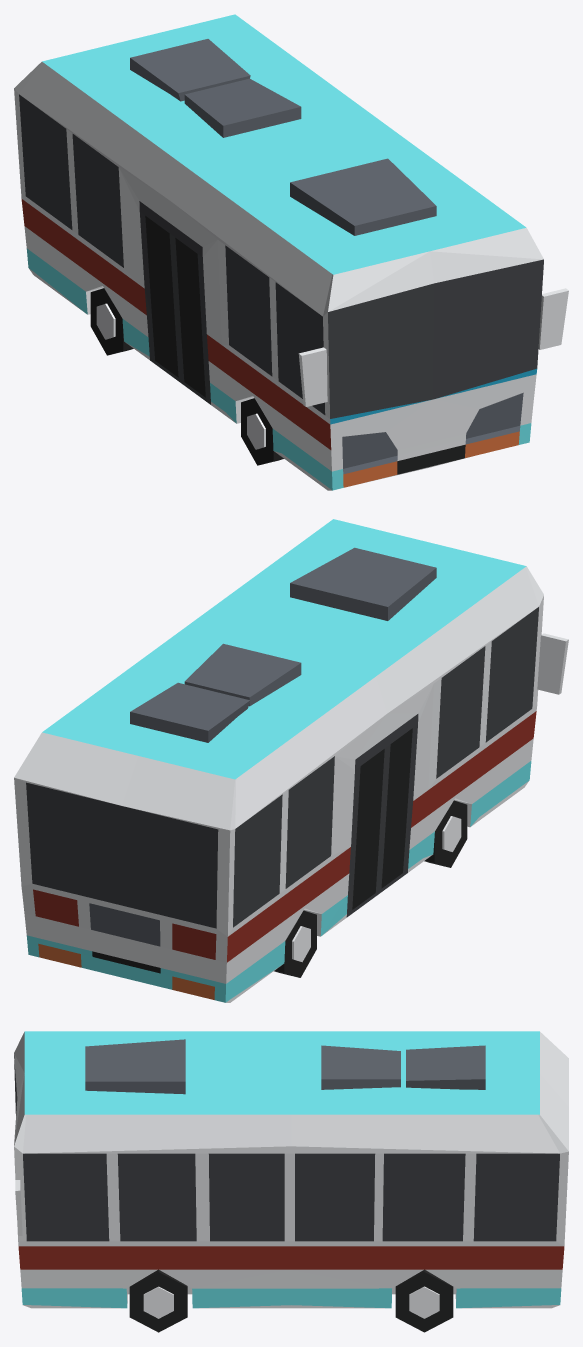
Rendered from Vehicles_City_Bus.fbx.
The picture shows the model from 3 angles, top to bottom: view 1: azimuth 30°, elevation 25°; view 2: azimuth 150°, elevation 25°; view 3: azimuth 270°, elevation 25°; orthographic projection. The views are drawn at different scales.
Parts seen in each view (by area): view 1: Vehicles_City_Bus; view 2: Vehicles_City_Bus; view 3: Vehicles_City_Bus.
Part boxes in pixels (x1,y1,x2,y2): Vehicles_City_Bus: [14, 14, 568, 490]; Vehicles_City_Bus: [14, 519, 568, 1002]; Vehicles_City_Bus: [14, 1031, 568, 1332].
Size of the model in its own units: 326 by 304 by 663.
